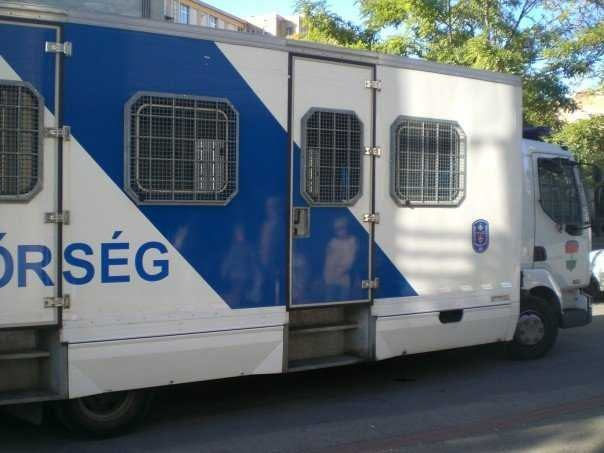Ambulance: (6, 3, 604, 384)
